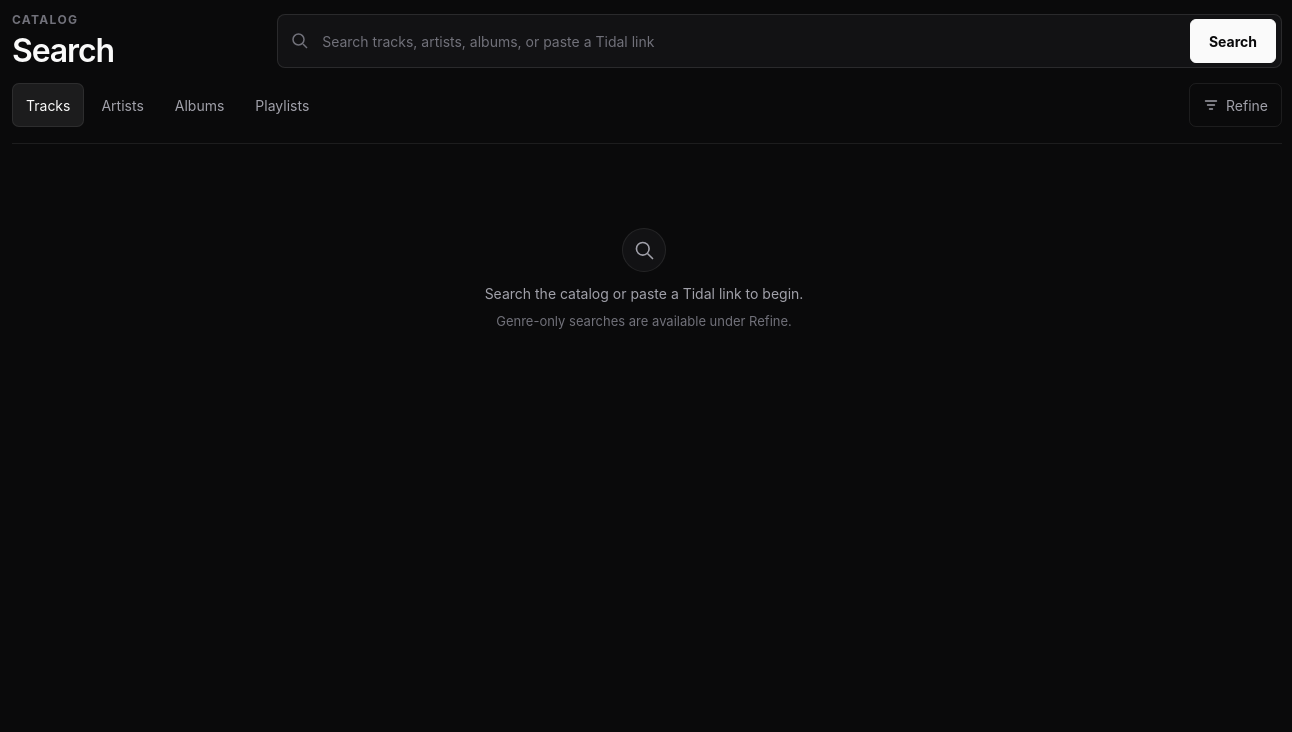
SearchView › searches artists and opens the selected artist by id
Click the button "Artists" at (123,105), box [88,83,158,127]
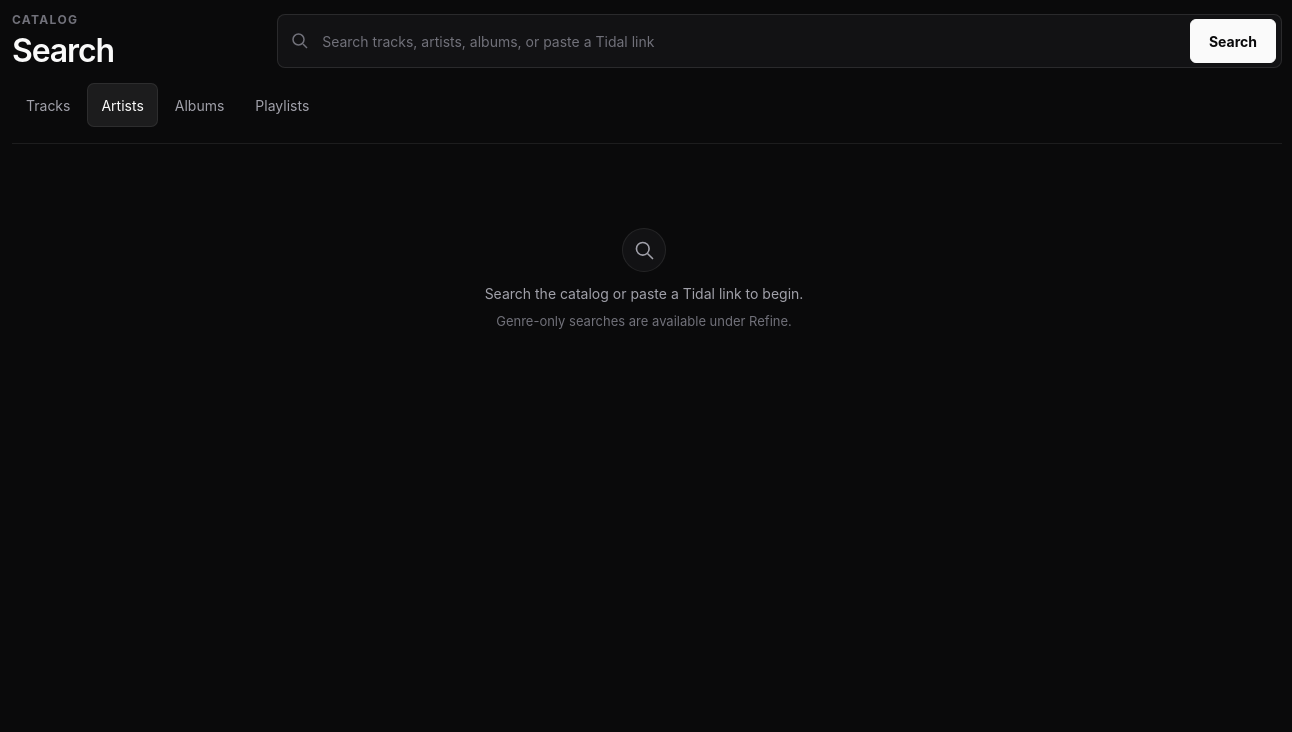
Type "The Pilot" into the field labelled "Search tracks, artists, albums, or paste a Tidal link" at (750,41), box [318,22,1181,60]
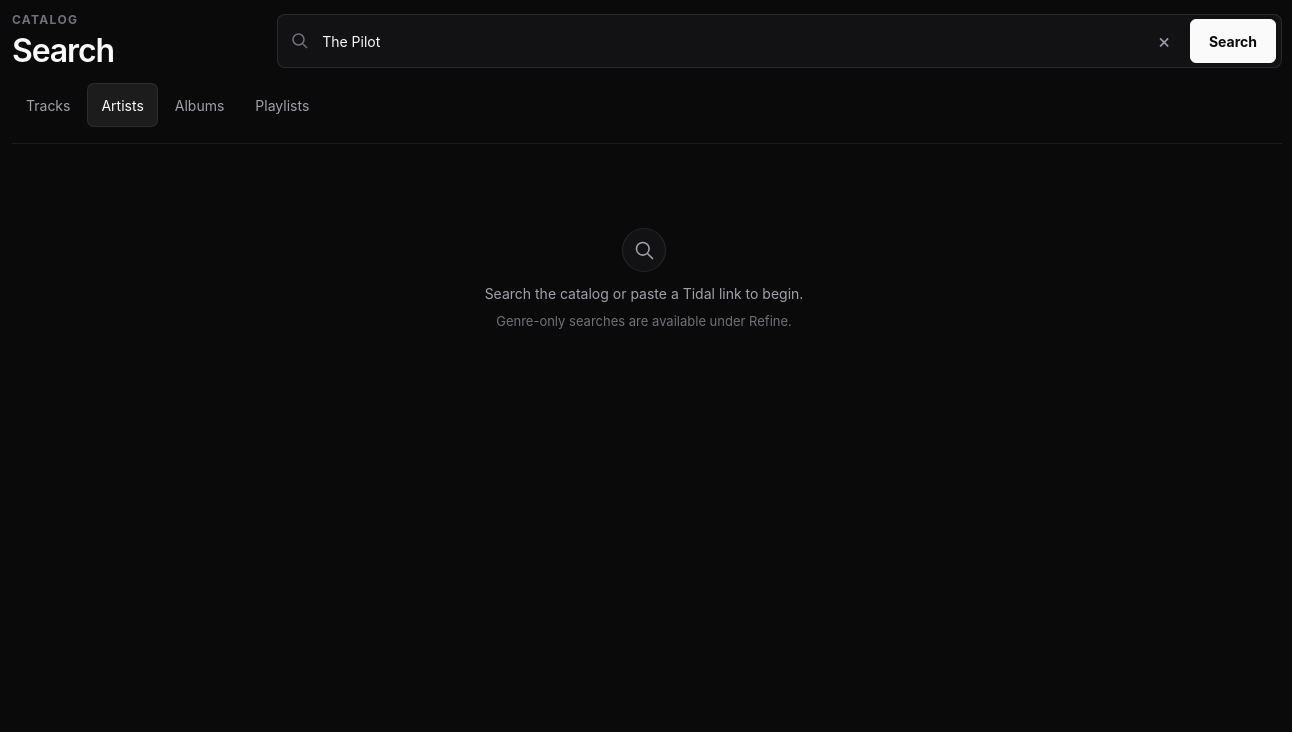
Click the button "Search" at (1233,41), box [1190,19,1276,63]
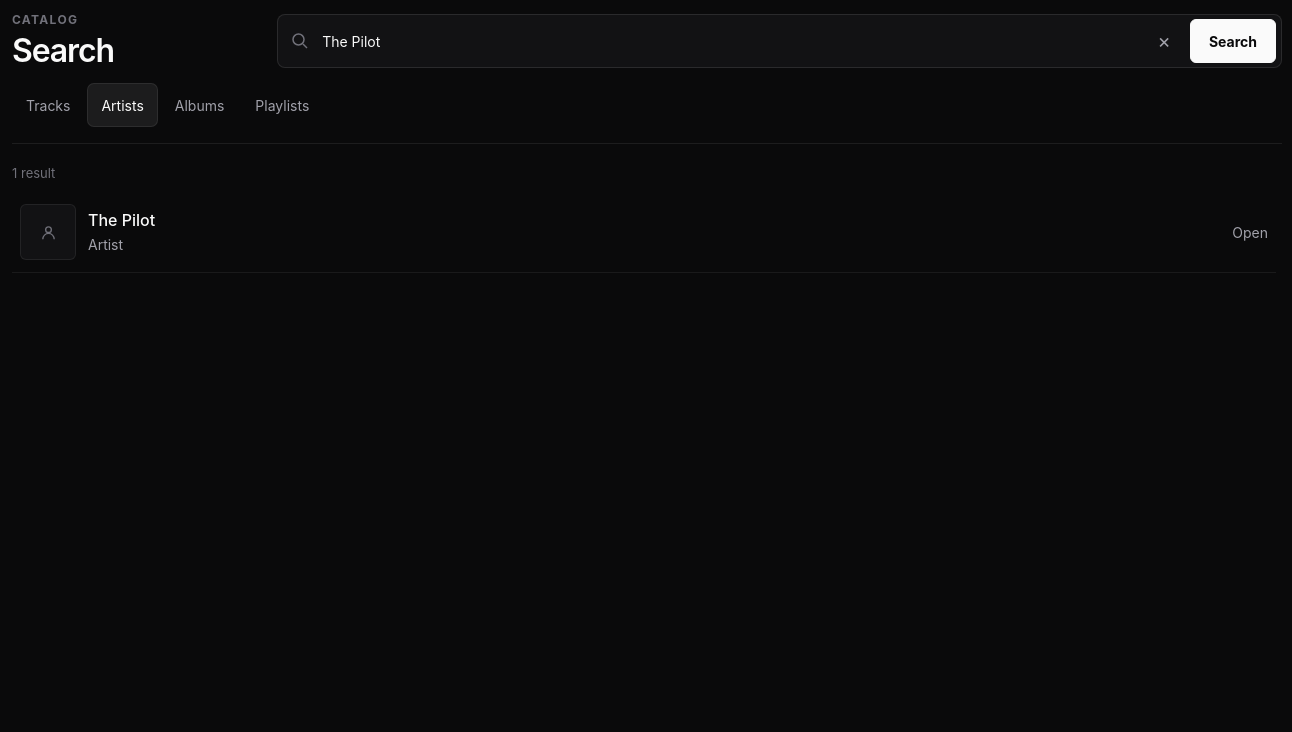
Expected: the text "The Pilot" is shown, [88,210,155,230]
Click the button with aria-label "Open artist The Pilot" at (48,232), box [12,192,1276,273]
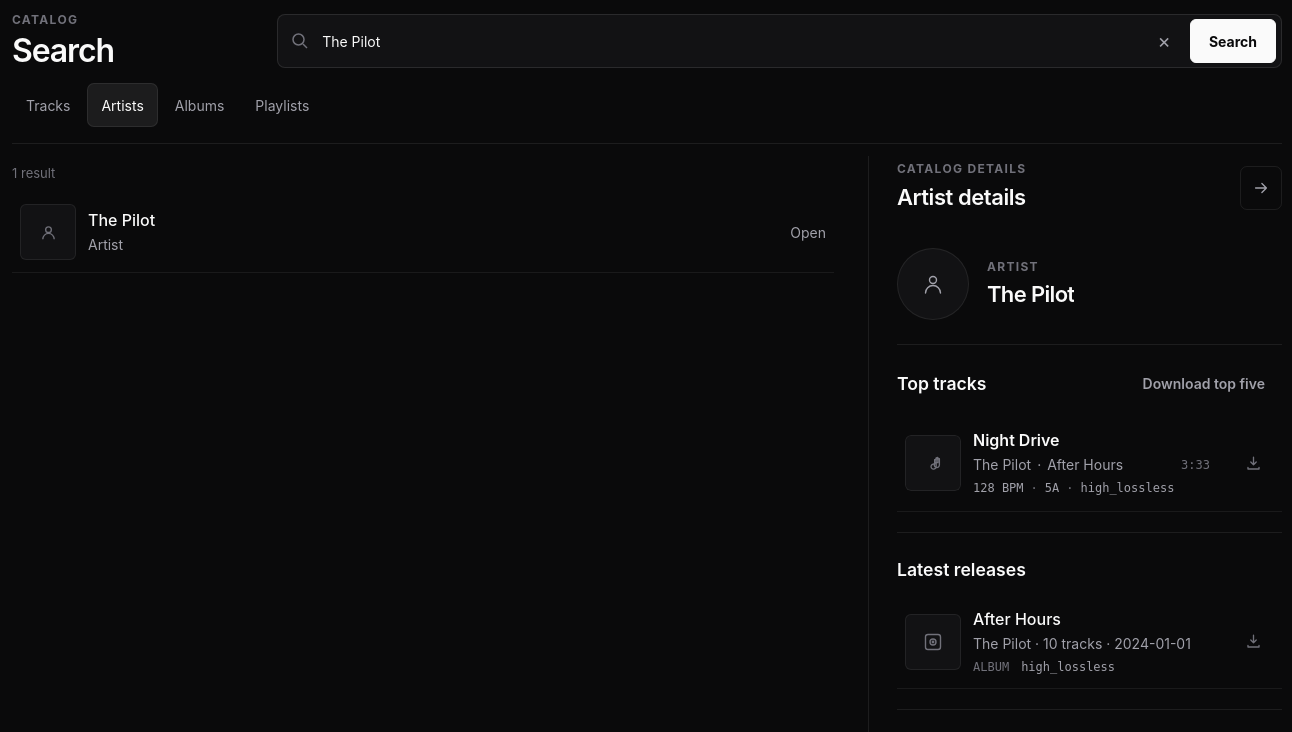
Expected: the heading "Artist details" is shown, [897,181,1027,214]
